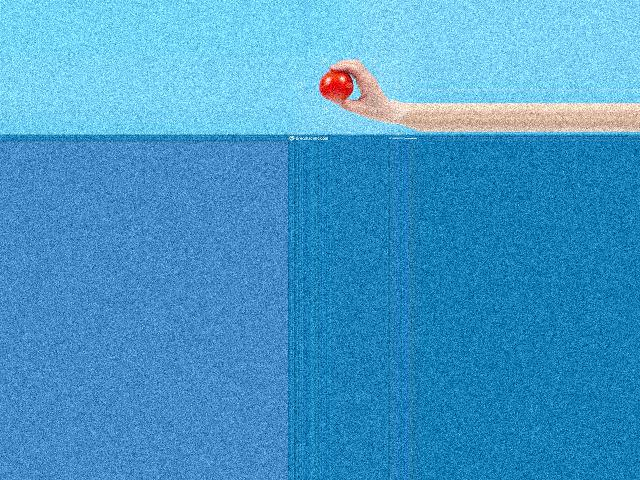tomato: (319, 70, 353, 100)
